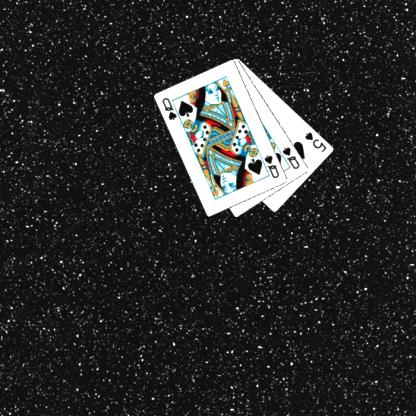5S: (303, 130, 328, 154)
QS: (280, 144, 301, 170), (262, 152, 280, 180), (160, 95, 178, 122)
